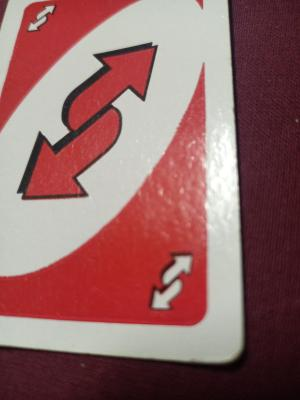reverse: (13, 37, 165, 210), (140, 245, 199, 317), (19, 0, 66, 38)
